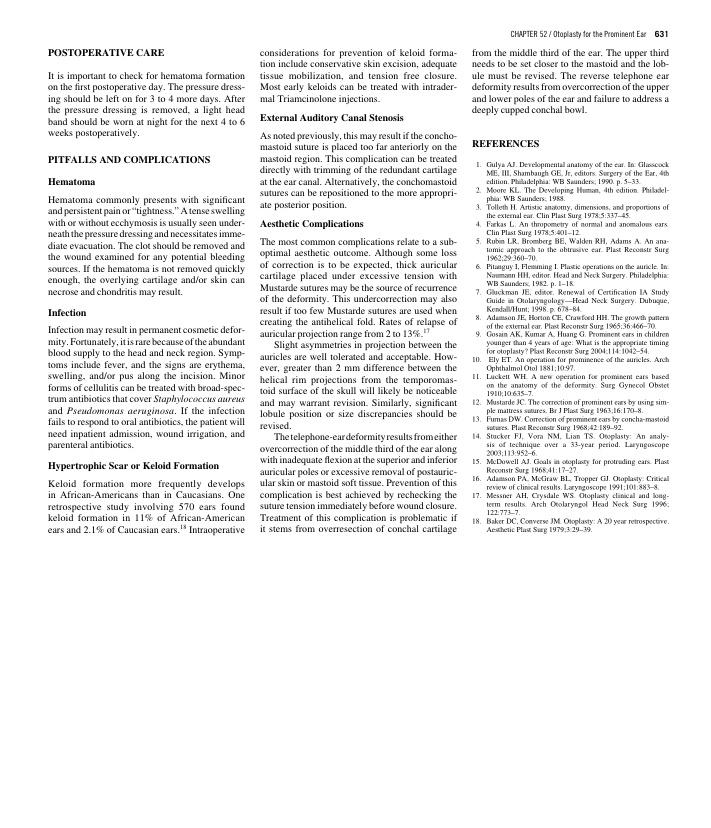header: (509, 29, 647, 40)
list: (471, 159, 670, 536)
section-heading: (47, 155, 212, 165), (46, 47, 165, 58), (471, 138, 540, 149)
sub-section-heading: (47, 461, 220, 473), (259, 113, 405, 124), (259, 219, 365, 230), (47, 177, 97, 187), (47, 308, 87, 318)
text: (258, 237, 458, 536), (46, 324, 246, 452), (47, 194, 246, 298), (258, 130, 459, 212), (470, 48, 670, 117), (46, 71, 246, 140), (47, 478, 247, 538), (258, 47, 458, 106)
